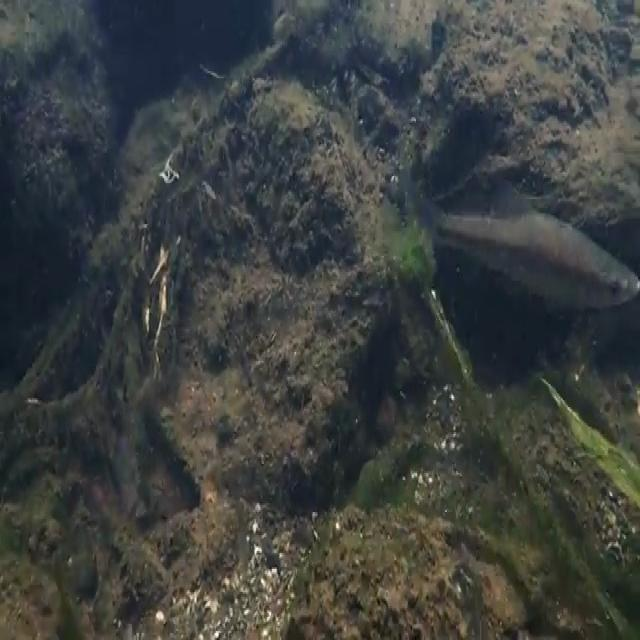Cakil Baligi: (418, 196, 640, 336)
